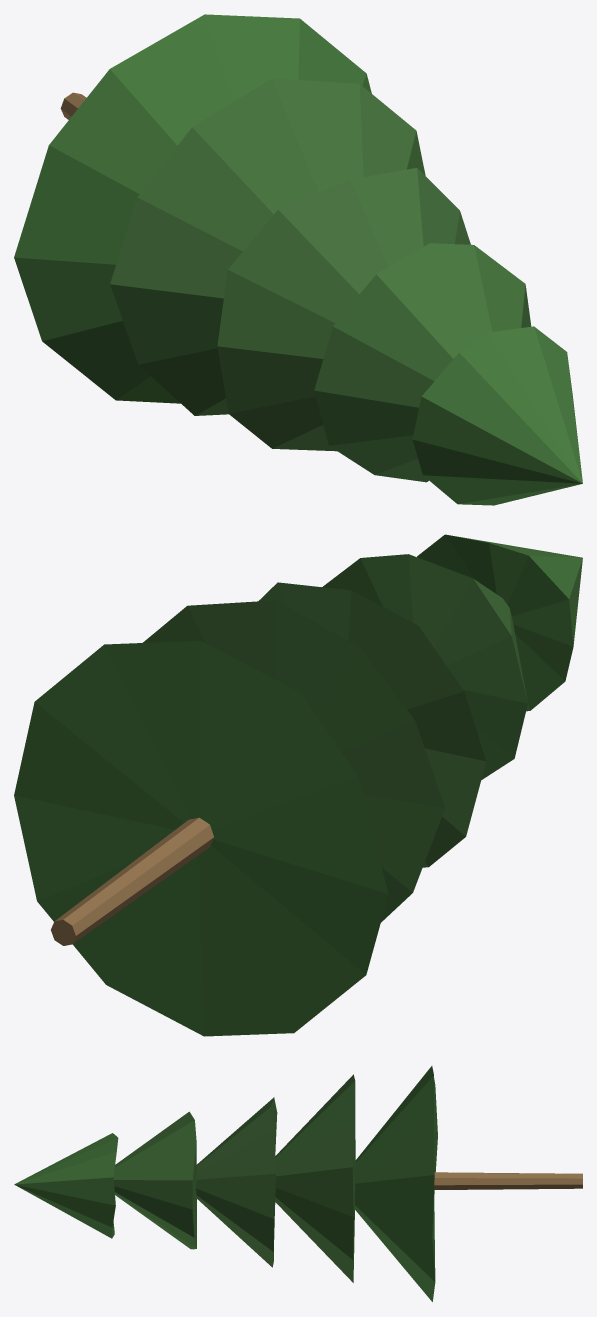
File: pine_tree.glb
The picture shows the model from 3 angles, top to bottom: view 1: azimuth 30°, elevation 25°; view 2: azimuth 150°, elevation 25°; view 3: azimuth 270°, elevation 25°; orthographic projection. The views are drawn at different scales.
Parts seen in each view (by area): view 1: geometry_0; view 2: geometry_0; view 3: geometry_0.
Boxes of the visible parts, bbox=[...] form: geometry_0: bbox=[14, 14, 582, 505]; geometry_0: bbox=[14, 534, 582, 1036]; geometry_0: bbox=[14, 1066, 582, 1301].
Size of the model in its own units: 2.41 by 2.4 by 5.71.
